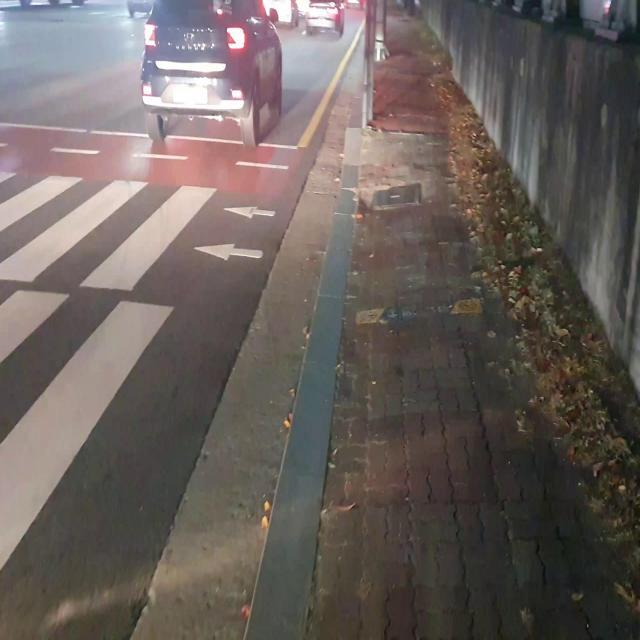crosswalk: (0, 171, 300, 640)
